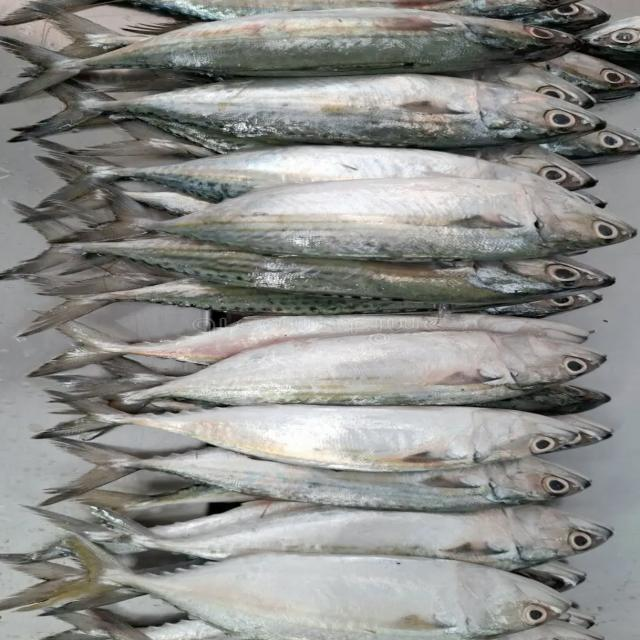Mackerel: (47, 332, 610, 439), (45, 530, 575, 640), (0, 4, 584, 100), (68, 178, 639, 258), (7, 73, 609, 147), (35, 393, 579, 472)
